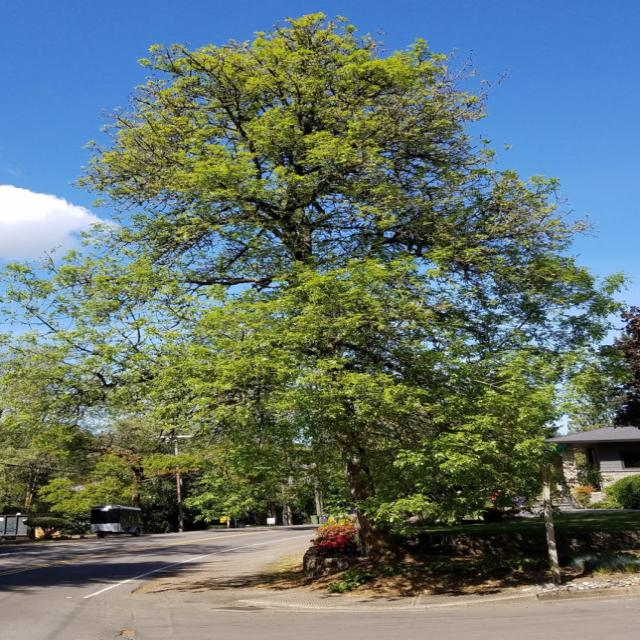Fraxinus latifolia: (2, 7, 639, 539)
